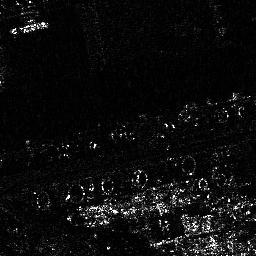ship: (8, 20, 48, 36)
